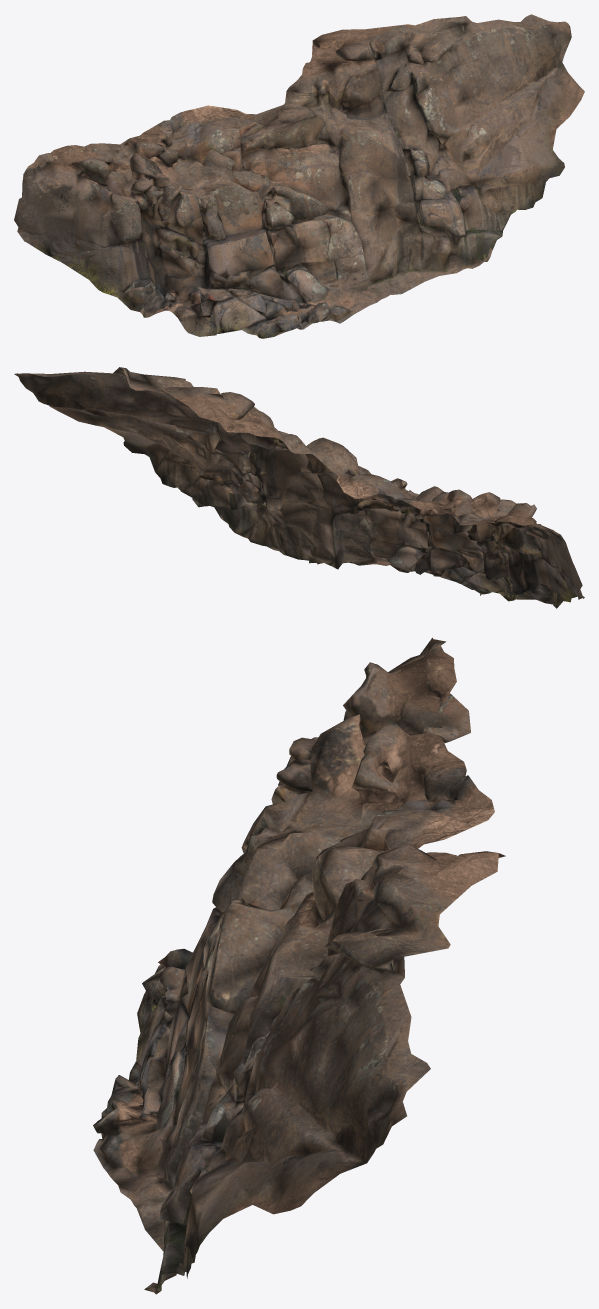
File: granite-lod.glb
The picture shows the model from 3 angles, top to bottom: view 1: azimuth 30°, elevation 25°; view 2: azimuth 150°, elevation 25°; view 3: azimuth 270°, elevation 25°; orthographic projection. The views are drawn at different scales.
Visible parts, largest first — view 1: drone_rock_02_LOD0; view 2: drone_rock_02_LOD0; view 3: drone_rock_02_LOD0.
Boxes of the visible parts, x1,y1,x2,y2 form: drone_rock_02_LOD0: [14, 14, 584, 338]; drone_rock_02_LOD0: [14, 367, 584, 608]; drone_rock_02_LOD0: [93, 637, 505, 1294].
Size of the model in its own units: 20.22 by 7.17 by 6.58.
1 material, 1 textured.
